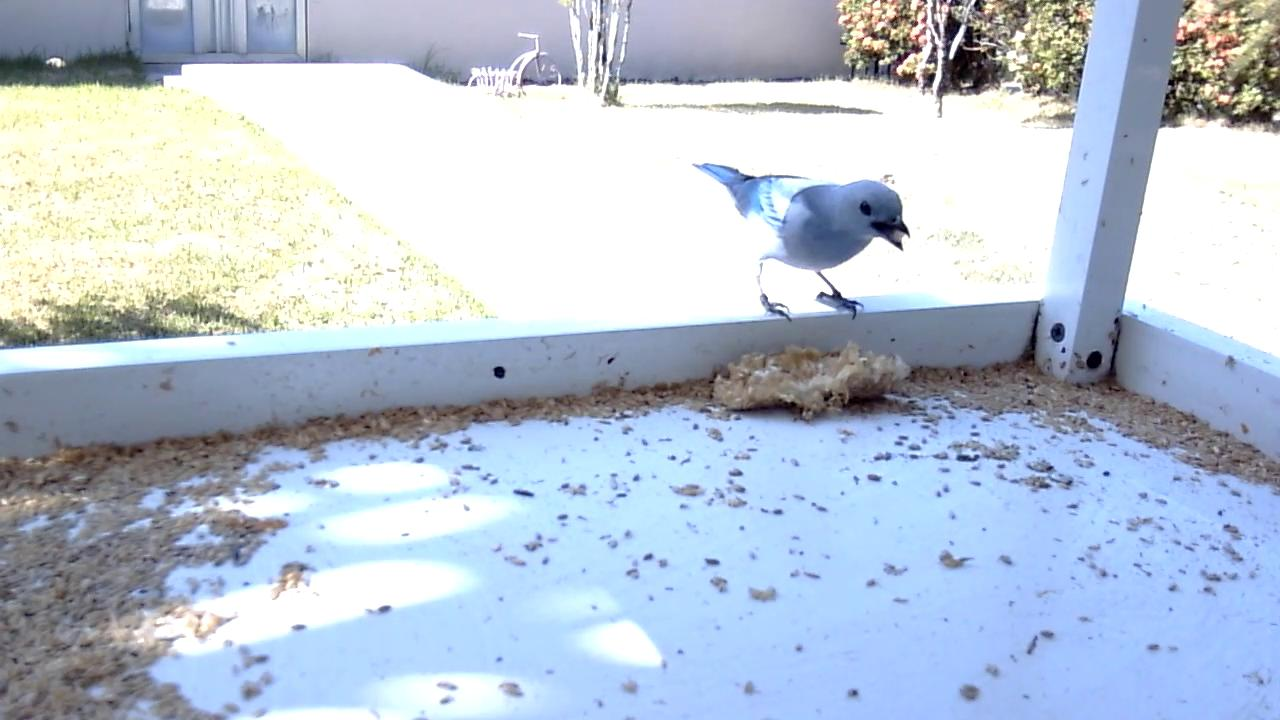sanhaco_da_amazonia: (690, 160, 913, 327)
